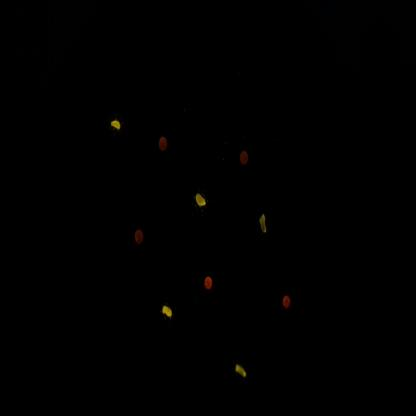PP: (228, 348, 258, 392), (103, 104, 132, 149), (189, 180, 218, 224), (251, 198, 277, 247), (158, 288, 181, 336)
PS: (119, 212, 160, 258), (272, 278, 304, 331), (194, 260, 226, 310), (233, 132, 258, 185), (152, 121, 178, 170)
